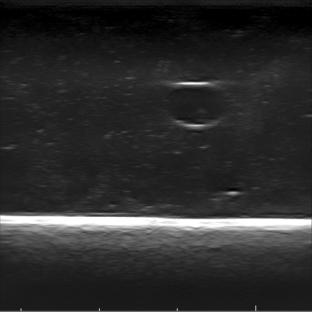vessel: (164, 79, 231, 130)
